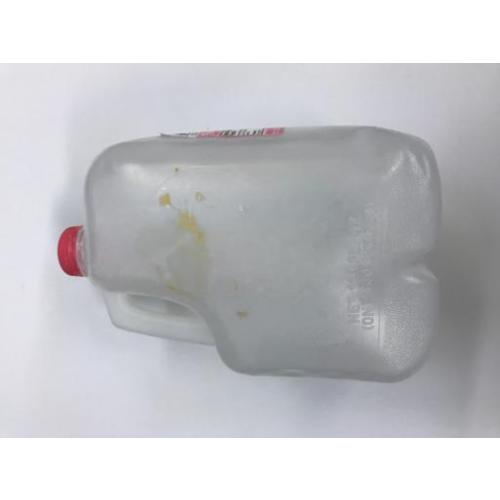plastic: (59, 124, 440, 382)
